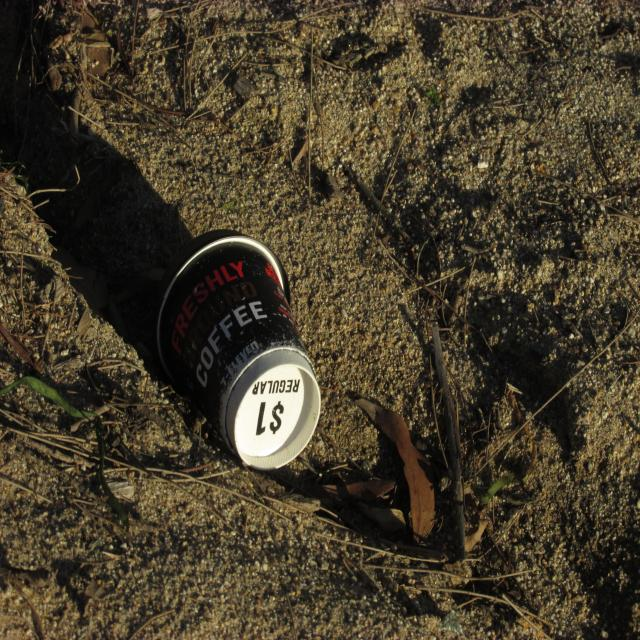plastic: (180, 261, 324, 469)
